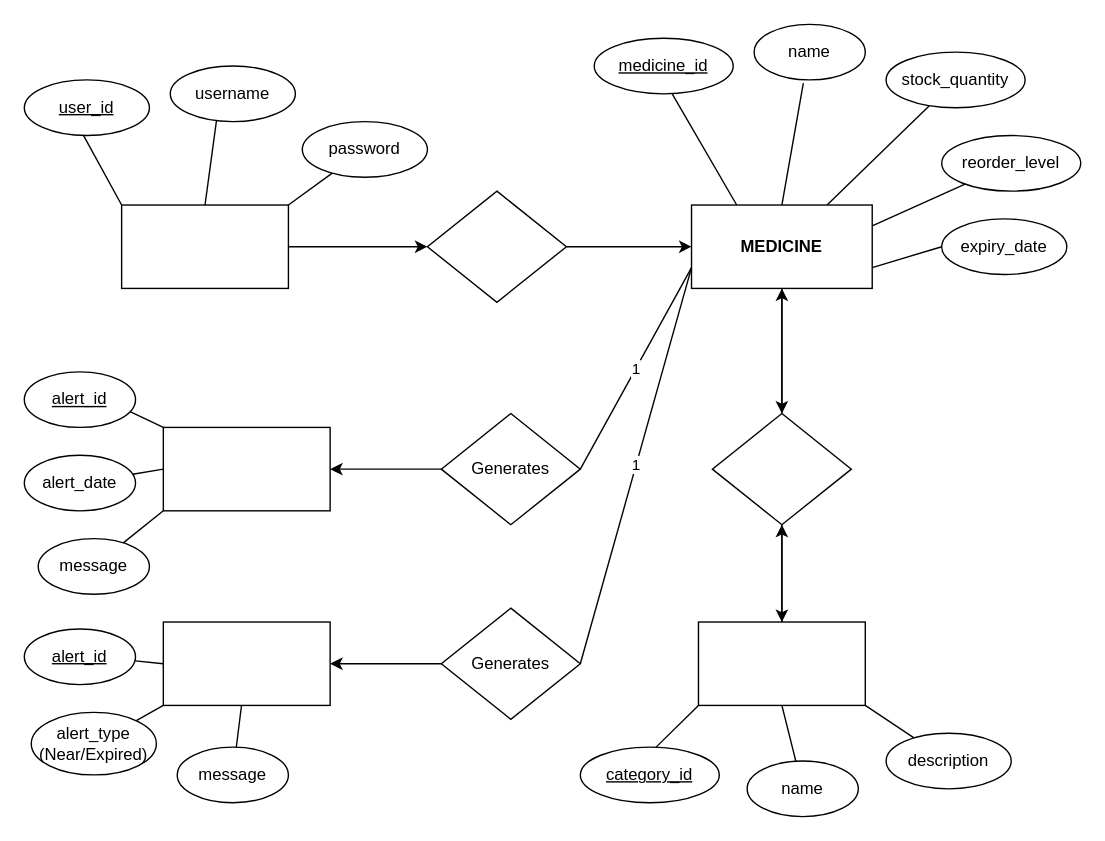
Image size: 1105x841. Some labels were removed from this diagram. The shapes that lost their labels are listed below. From the top down, each one's box as (x1, y1, x2, y2) in pixels, then its label:
(120, 204, 288, 288): USER
(426, 190, 566, 302): Manages
(162, 426, 330, 511): STOCK ALERT
(711, 412, 851, 525): Belongs To
(162, 621, 330, 705): EXPIRY ALERT
(697, 621, 865, 705): CATEGORY
